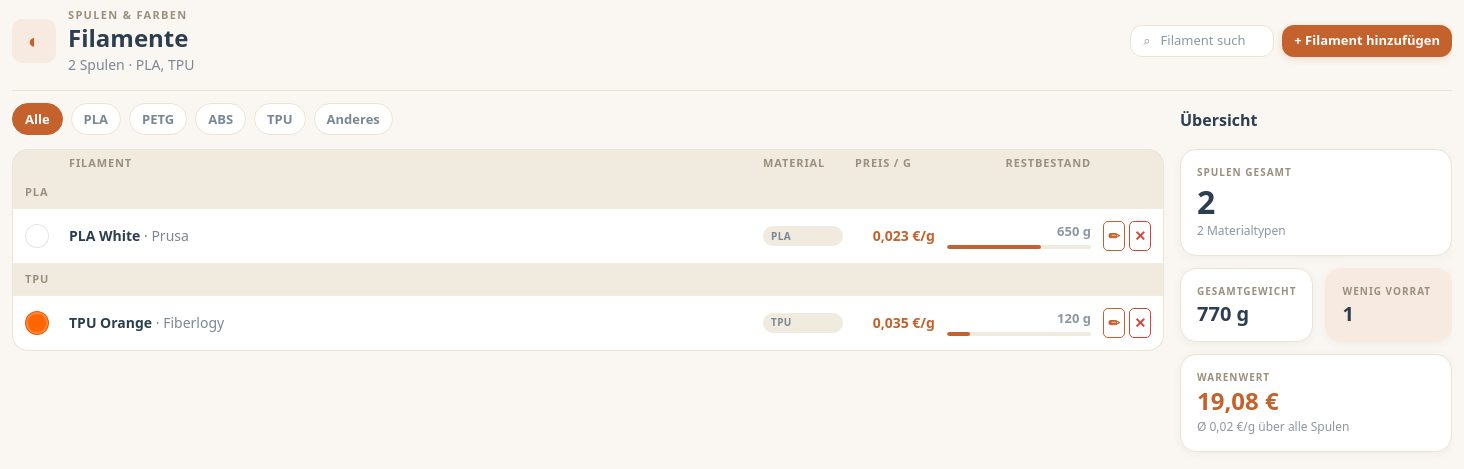
FilamentsComponent › filters filaments with search and chips while keeping chips visible on no results
Click the button with test id "filament-filter-chip" showing "PLA": point(96, 119) x1=71 y1=103 x2=121 y2=135
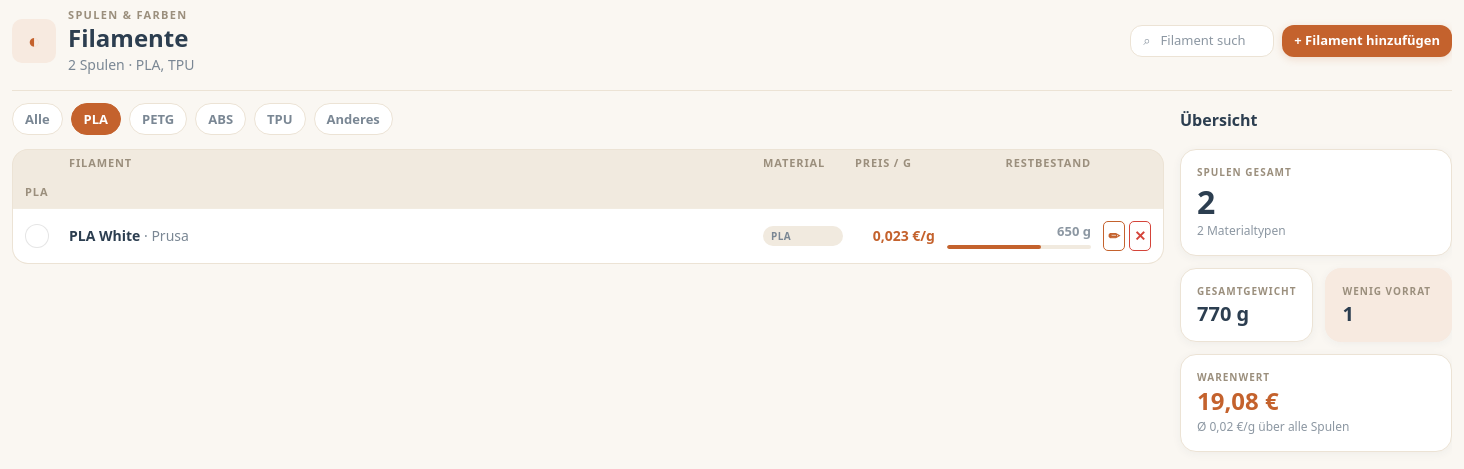
Check: the text "PLA White" is shown, box x1=69 y1=226 x2=144 y2=245
Check: the text "TPU Orange" is gone
In the search field with test id "filament-search" showing "⌕": point(1210, 41) x1=1159 y1=31 x2=1261 y2=51, type "zzz"
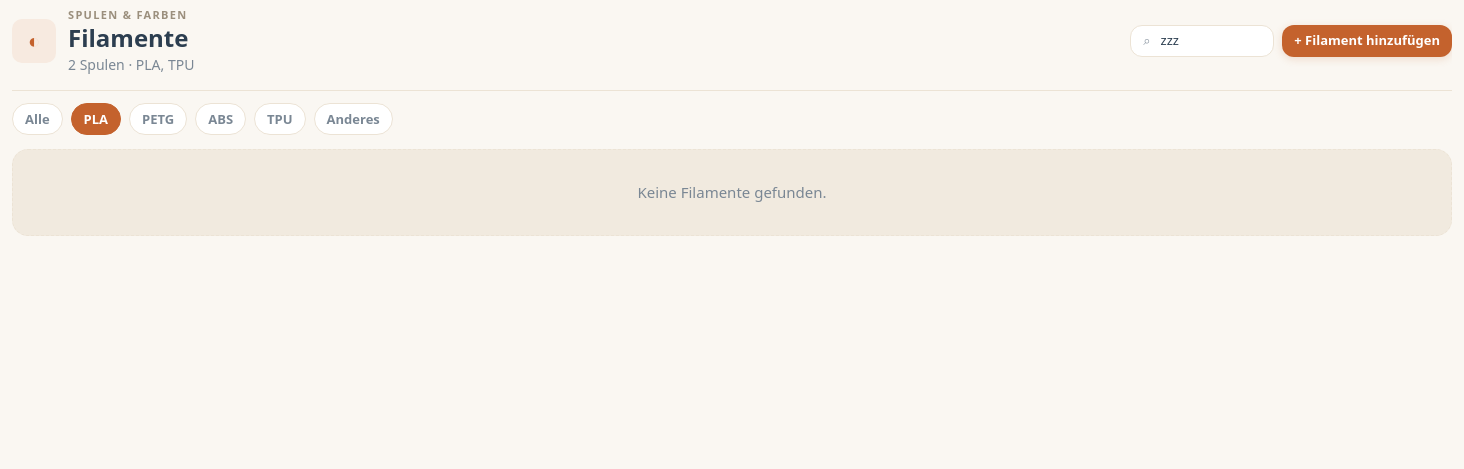
Check: the button with test id "filament-filter-chip" showing "Alle" is shown, box x1=12 y1=103 x2=63 y2=135
Check: the text "Keine Filamente gefunden." is shown, box x1=638 y1=182 x2=827 y2=202
